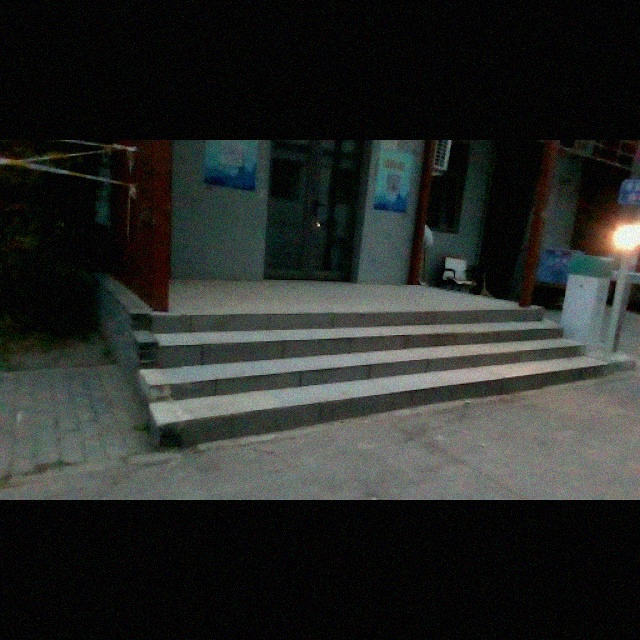stair: (129, 297, 591, 426)
